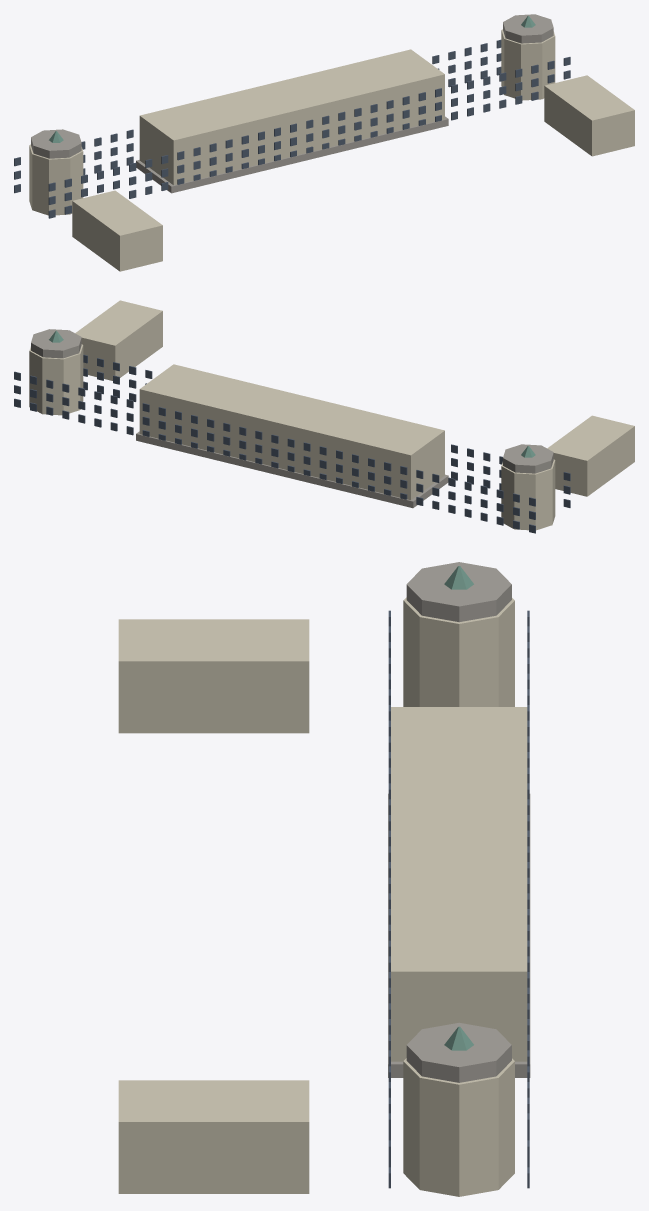
Rendered from palace.glb.
3 renders of one model, top to bottom at view 1: azimuth 30°, elevation 25°; view 2: azimuth 150°, elevation 25°; view 3: azimuth 270°, elevation 25°, orthographic. The views are drawn at different scales.
Visible parts, largest first — view 1: attic, corps, wing.001, wing, tower, tower.001, plinth, tower_top.001, tower_top; view 2: attic, corps, wing, wing.001, tower, tower.001, plinth, tower_top, tower_top.001; view 3: attic, wing, wing.001, tower.001, tower, corps, tower_top, tower_top.001, plinth.
Part boxes in pixels (x1,y1,x2,y2): attic: (139,49,444,146); corps: (139,81,444,185); wing.001: (544,75,634,156); wing: (72,190,162,271); tower: (29,144,83,215); tower.001: (501,29,555,100); plinth: (136,116,448,193); tower_top.001: (503,14,553,43); tower_top: (31,129,81,158); attic: (139,364,444,461); corps: (139,396,444,500); wing: (547,415,634,496); wing.001: (75,300,162,380); tower: (501,459,555,530); tower.001: (29,344,83,415); plinth: (136,431,448,508); tower_top: (503,444,553,473); tower_top.001: (31,329,81,358); attic: (391,707,527,985); wing: (118,619,309,733); wing.001: (118,1080,309,1193); tower.001: (403,1058,514,1196); tower: (403,597,514,706); corps: (391,985,527,1061); tower_top: (406,562,511,622); tower_top.001: (406,1022,511,1082); plinth: (388,793,530,1077).
Size of the model in its own units: 194 by 26.08 by 66.5.
